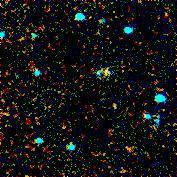star: (96, 57, 126, 87)
